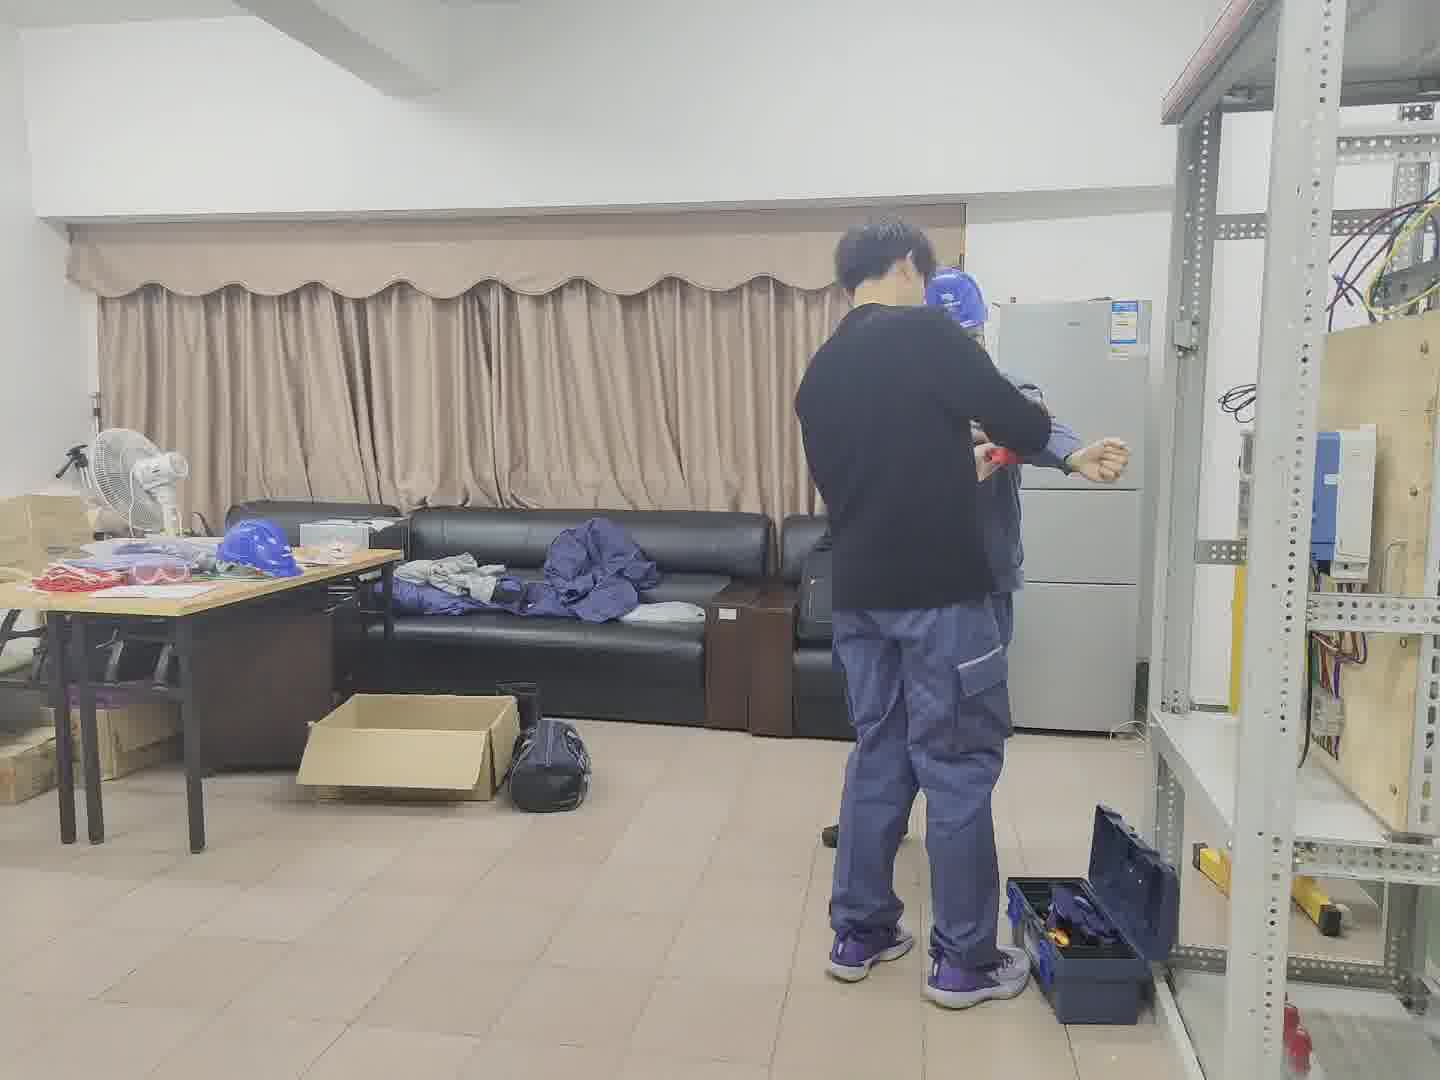downsuit: (820, 608, 1020, 973)
halt: (832, 220, 950, 304), (933, 264, 998, 363)
hand: (1073, 437, 1138, 480)
noear: (883, 240, 926, 297)
person: (796, 219, 1081, 1009)
upcloth: (796, 304, 1060, 597)
